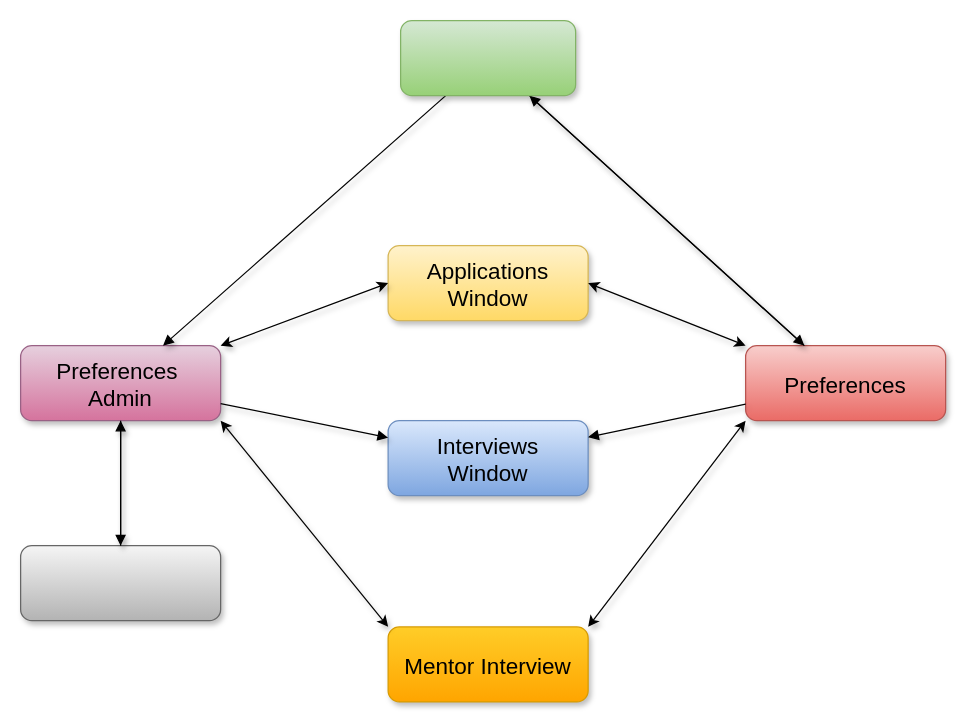
The diagram is 966 pixels wide and 723 high, and some of its shapes have lost their labels. The shapes that lost their labels are listed below. From the top down, each one's centre as x and y in pixels, then its label:
point (488, 59): Login Window
point (121, 584): Admin Menu
